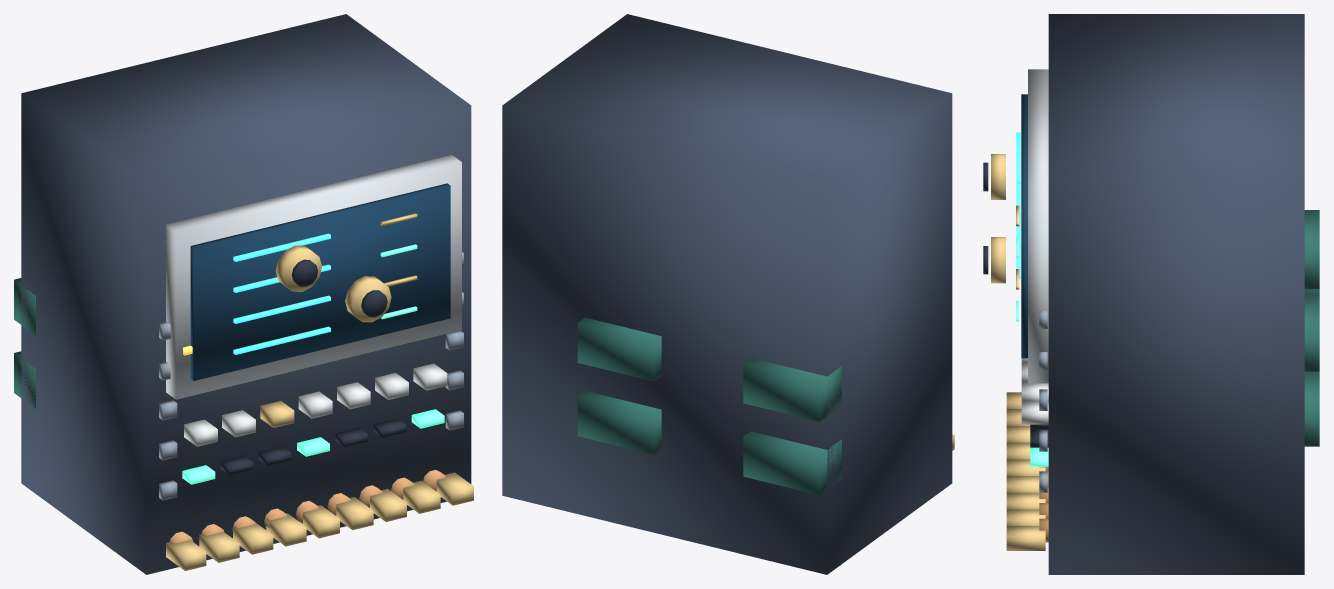
File: 79_L91_Protected5VControlSupply.fbx
3 views of the same model, side by side, from view 1: azimuth 30°, elevation 25°; view 2: azimuth 150°, elevation 25°; view 3: azimuth 270°, elevation 25° (orthographic). The views are drawn at different scales.
Visible parts, largest first — view 1: L91_Protected5VControlSupply, L91_Protected5VControlSupply_Part_0015, L91_Protected5VControlSupply_Part_0013; view 2: L91_Protected5VControlSupply; view 3: L91_Protected5VControlSupply, L91_Protected5VControlSupply_Part_0015, L91_Protected5VControlSupply_Part_0013.
Boxes of the visible parts, <box> form: L91_Protected5VControlSupply: <box>14,14,473,574</box>; L91_Protected5VControlSupply_Part_0015: <box>345,276,391,322</box>; L91_Protected5VControlSupply_Part_0013: <box>275,245,321,291</box>; L91_Protected5VControlSupply: <box>502,14,954,574</box>; L91_Protected5VControlSupply: <box>1006,14,1319,574</box>; L91_Protected5VControlSupply_Part_0015: <box>991,237,1005,283</box>; L91_Protected5VControlSupply_Part_0013: <box>991,154,1005,199</box>.
Bounding box in the file's own units: 1.08 × 1.23 × 0.9429.
